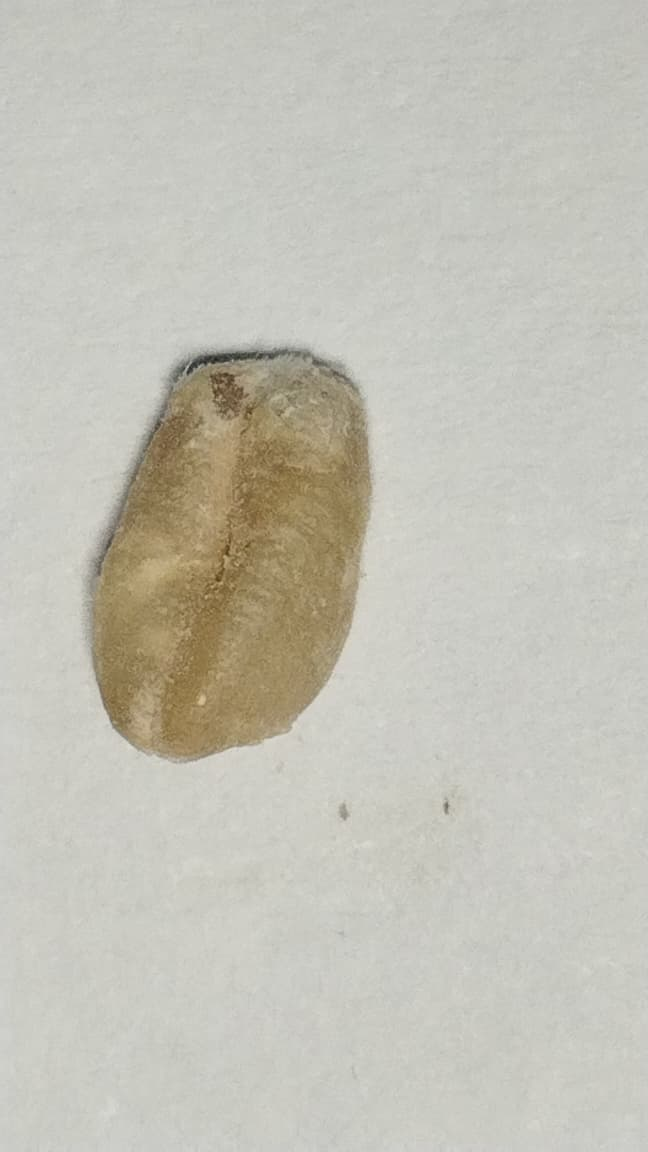damage: (92, 354, 369, 761)
insectdamage: (176, 352, 365, 501)
